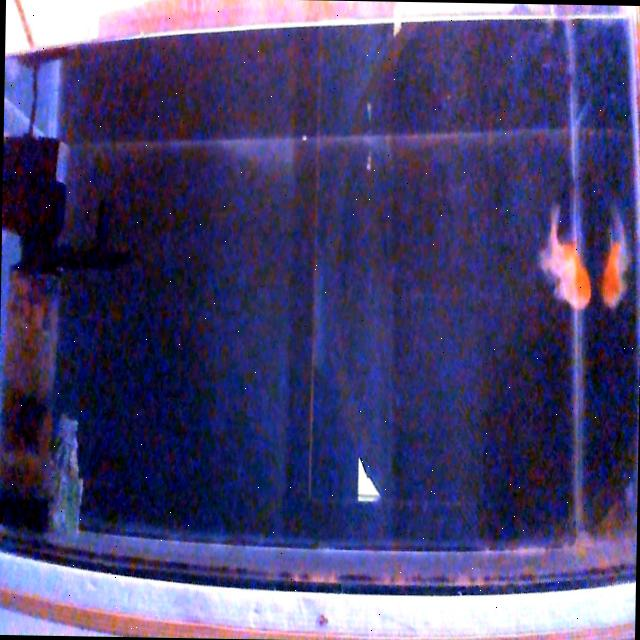fish: (536, 208, 595, 310), (596, 214, 632, 308)
